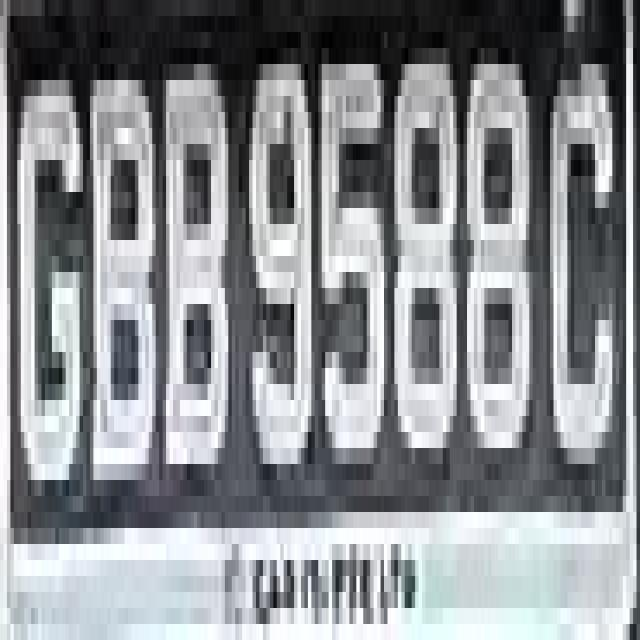5: (312, 16, 388, 512)
8: (460, 48, 540, 512), (391, 32, 457, 496)
9: (246, 64, 314, 464)
B: (159, 48, 235, 544), (83, 64, 163, 528)
C: (550, 48, 626, 496)
G: (14, 48, 86, 560)
